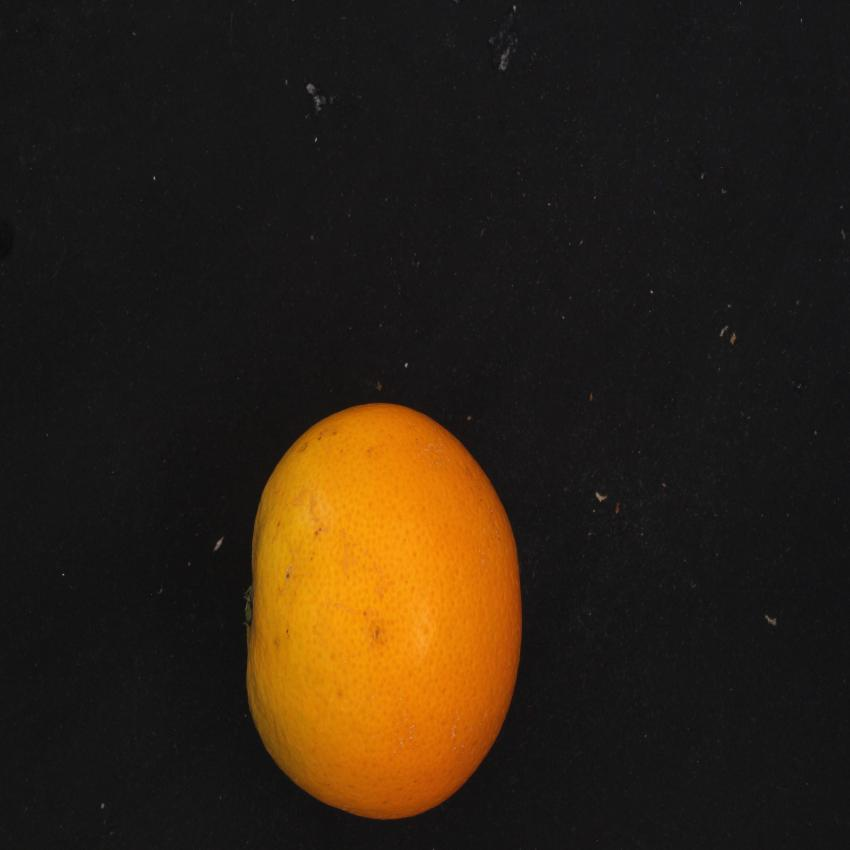Buen estado: (232, 384, 536, 828)
